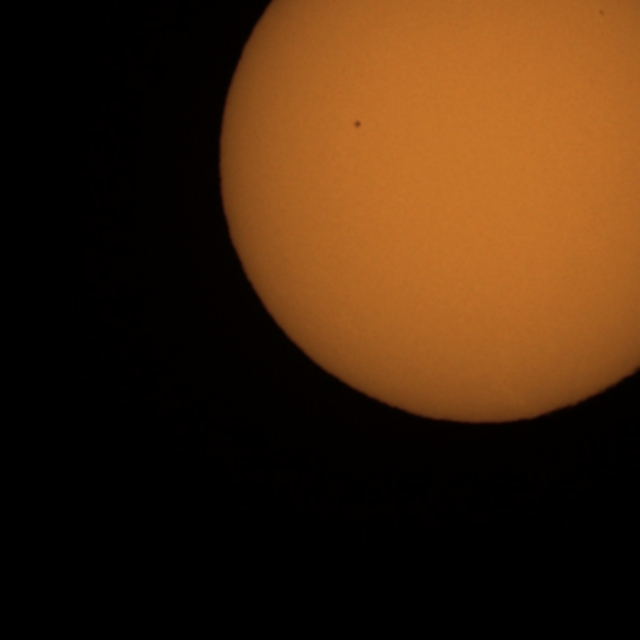sunspot: (352, 119, 363, 130), (598, 8, 606, 17)
